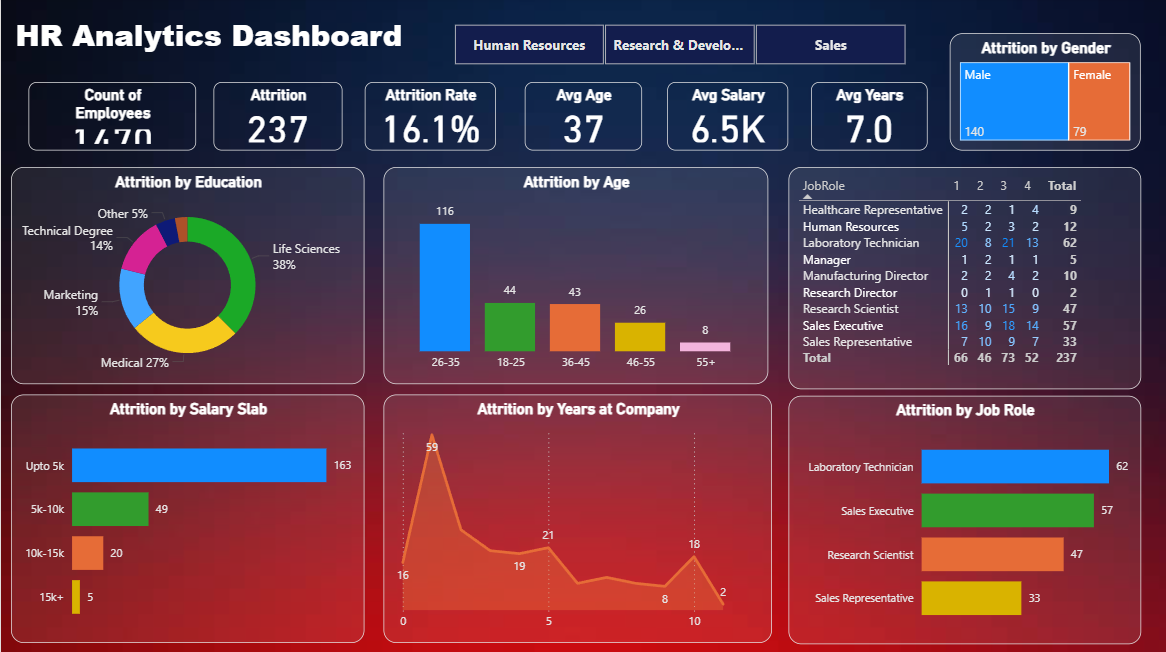

Layout of this report page (visuals, bound fields, positions):
{"tool":"powerbi","page":{"name":"Page 1","canvas":[1280,720],"ordinal":0},"visuals":[{"type":"card","title":"Count of Employees","fields":{"Values":["CountNonNull(HR_Analytics.EmpID)"]},"box":[30.2,93.3,183.9,75.5],"z":0},{"type":"card","title":"Avg Age","fields":{"Values":["Avg(HR_Analytics.Age)"]},"box":[575,93.3,129,75.5],"z":1000},{"type":"card","title":"Attrition Rate","fields":{"Values":["HR_Analytics.AttritionRate"]},"box":[399.3,93.3,144.1,75.5],"z":2000},{"type":"card","title":"Attrition","fields":{"Values":["Sum(HR_Analytics.AttritionCount)"]},"box":[233.3,93.3,141.3,75.5],"z":3000},{"type":"card","title":"Avg Years","fields":{"Values":["Avg(HR_Analytics.YearsAtCompany)"]},"box":[889.2,93.3,127.6,75.5],"z":4000},{"type":"card","title":"Avg Salary","fields":{"Values":["Avg(HR_Analytics.MonthlyIncome)"]},"box":[731.4,93.3,133.1,75.5],"z":5000},{"type":"donutChart","title":"Attrition by Education","fields":{"Category":["HR_Analytics.EducationField"],"Y":["Sum(HR_Analytics.AttritionCount)"]},"box":[11,186.6,388.3,238.8],"z":6000},{"type":"columnChart","title":"Attrition by Age","fields":{"Category":["HR_Analytics.AgeGroup"],"Y":["Sum(HR_Analytics.AttritionCount)"]},"box":[419.9,186.6,422.6,238.8],"z":7000},{"type":"pivotTable","fields":{"Rows":["HR_Analytics.JobRole"],"Columns":["HR_Analytics.JobSatisfaction"],"Values":["Sum(HR_Analytics.AttritionCount)"]},"box":[864.5,186.6,387,244.3],"z":8000},{"type":"barChart","title":"Attrition by Salary Slab","fields":{"Category":["HR_Analytics.SalarySlab"],"Y":["Sum(HR_Analytics.AttritionCount)"]},"box":[11,436.4,388.3,273.1],"z":9000},{"type":"barChart","title":"Attrition by Job Role","fields":{"Category":["HR_Analytics.JobRole"],"Y":["Sum(HR_Analytics.AttritionCount)"]},"box":[864.5,437.7,387,273.1],"z":10000},{"type":"areaChart","title":"Attrition by Years at Company","fields":{"Category":["HR_Analytics.YearsAtCompany"],"Y":["Sum(HR_Analytics.AttritionCount)"]},"box":[419.9,436.4,426.8,273.1],"z":11000},{"type":"treemap","title":"Attrition by Gender","fields":{"Group":["HR_Analytics.Gender"],"Values":["Sum(HR_Analytics.AttritionCount)"]},"box":[1041.5,39.8,209.9,129],"z":12000},{"type":"slicer","fields":{"Values":["HR_Analytics.Department"]},"box":[472,23.3,544.8,57.6],"z":13000},{"type":"textbox","box":[11,13.7,444.6,54.9],"z":14000}]}

Visuals, with their boxes in screenshot pixels (x1, y1, x2, y2), scaled from the page's 1280x720 canvas onto the 1166x652 screenshot:
"Count of Employees" card: 28, 84, 195, 153
"Avg Age" card: 524, 84, 641, 153
"Attrition Rate" card: 364, 84, 495, 153
"Attrition" card: 213, 84, 341, 153
"Avg Years" card: 810, 84, 926, 153
"Avg Salary" card: 666, 84, 788, 153
"Attrition by Education" donutChart: 10, 169, 364, 385
"Attrition by Age" columnChart: 383, 169, 767, 385
pivotTable - HR_Analytics.JobRole x HR_Analytics.JobSatisfaction: 788, 169, 1140, 390
"Attrition by Salary Slab" barChart: 10, 395, 364, 642
"Attrition by Job Role" barChart: 788, 396, 1140, 644
"Attrition by Years at Company" areaChart: 383, 395, 771, 642
"Attrition by Gender" treemap: 949, 36, 1140, 153
slicer - HR_Analytics.Department: 430, 21, 926, 73
textbox: 10, 12, 415, 62
